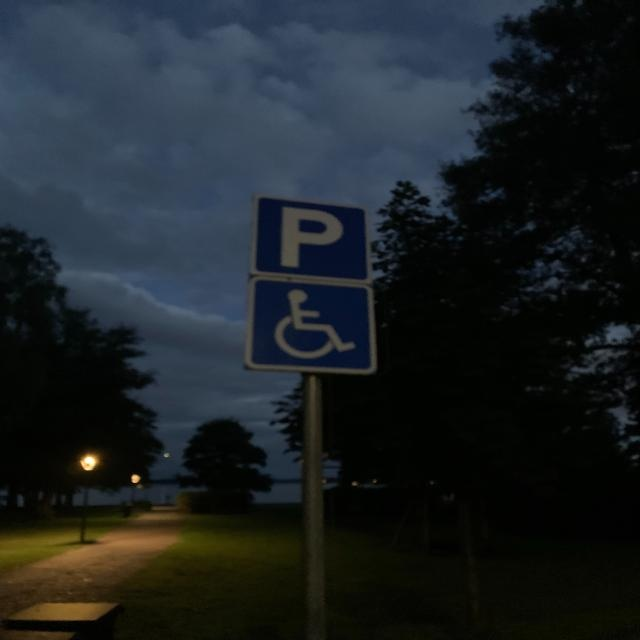avstignnigsplats: (250, 196, 372, 283)
